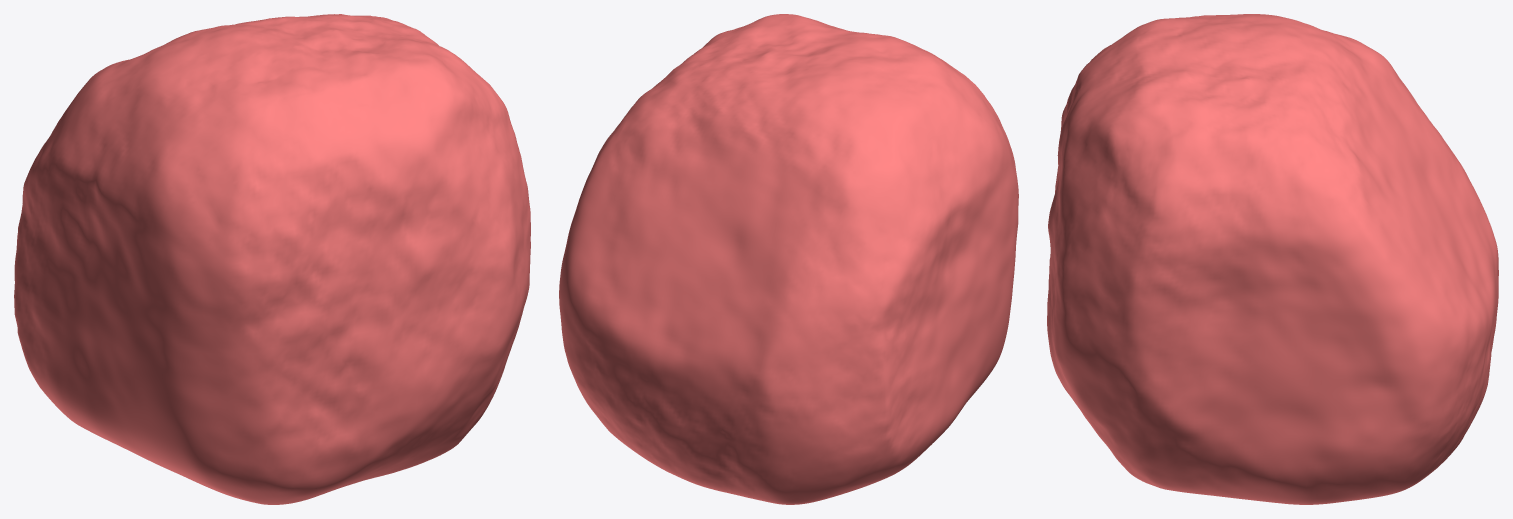
The model's file is SmallRock_high.fbx.
3 views of the same model, side by side, from view 1: azimuth 30°, elevation 25°; view 2: azimuth 150°, elevation 25°; view 3: azimuth 270°, elevation 25° (orthographic). The views are drawn at different scales.
Parts seen in each view (by area): view 1: SmallRock_high; view 2: SmallRock_high; view 3: SmallRock_high.
Part boxes in pixels (bbox=[...]): SmallRock_high: bbox=[14, 14, 530, 504]; SmallRock_high: bbox=[559, 14, 1018, 504]; SmallRock_high: bbox=[1047, 14, 1498, 504].
Bounding box in the file's own units: 0.2183 × 0.2294 × 0.2344.
